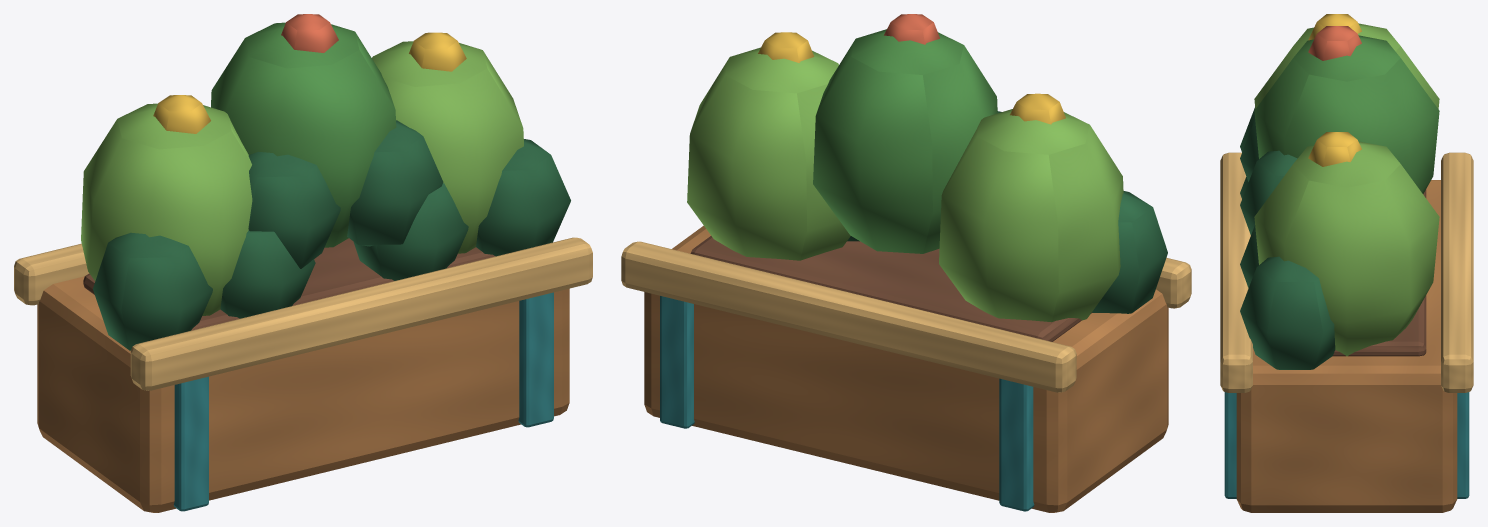
Rendered from camp-planter.glb.
The picture shows the model from 3 angles, left to right: view 1: azimuth 30°, elevation 25°; view 2: azimuth 150°, elevation 25°; view 3: azimuth 270°, elevation 25°; orthographic projection. The views are drawn at different scales.
Parts seen in each view (by area): view 1: camp-planter-mesh; view 2: camp-planter-mesh; view 3: camp-planter-mesh.
Boxes of the visible parts, <box> form: camp-planter-mesh: <box>14,14,592,512</box>; camp-planter-mesh: <box>621,14,1191,512</box>; camp-planter-mesh: <box>1220,14,1473,512</box>.
Size of the model in its own units: 1.52 by 1.34 by 0.78.
Materials: 1 (1 with a texture image).
